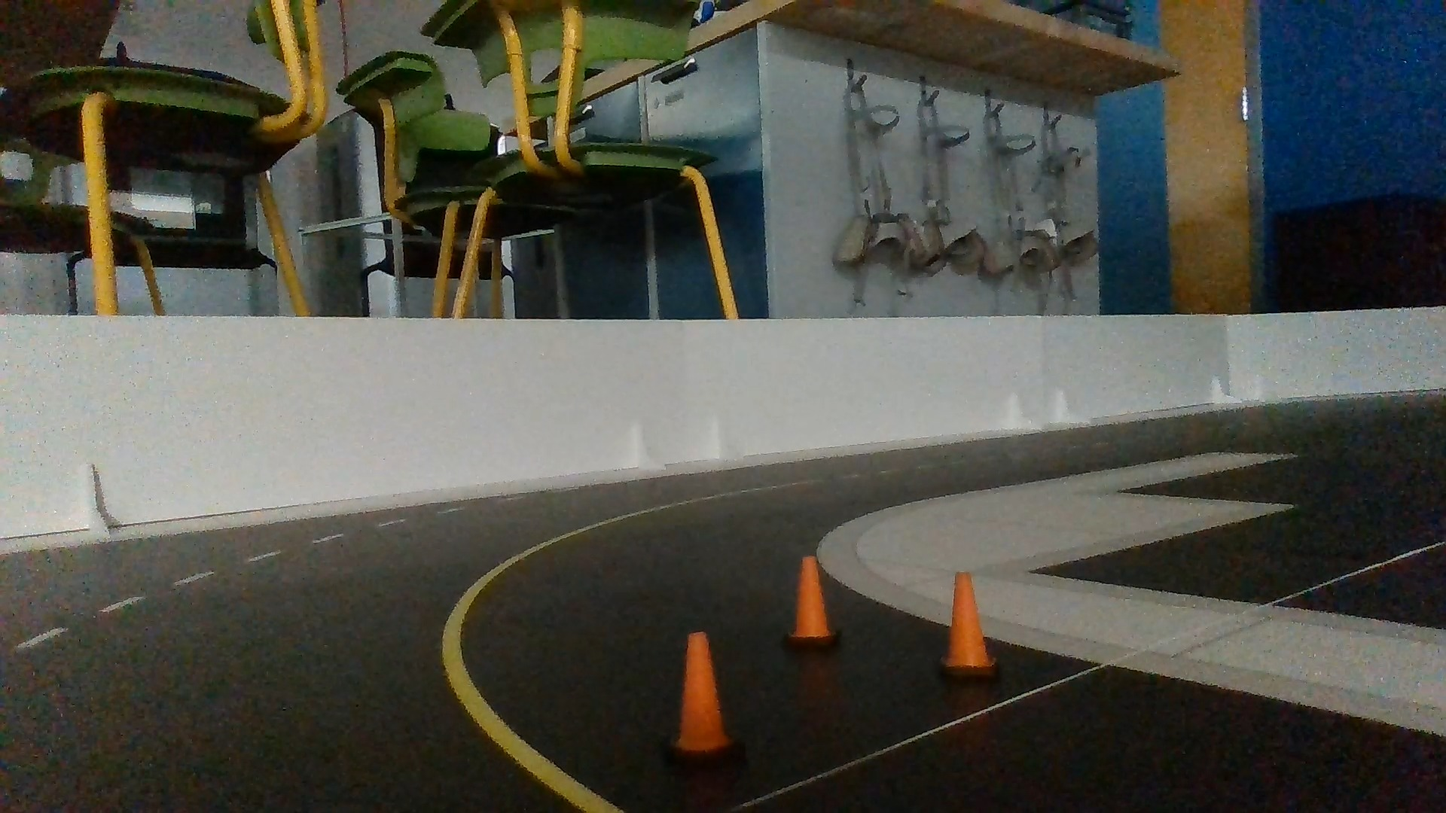Traffic Cone: (669, 632, 741, 763), (941, 573, 996, 678), (786, 556, 837, 648)
